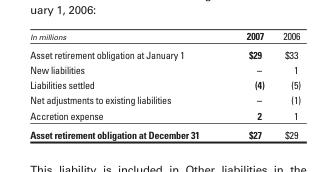table: (29, 28, 299, 140)
table column: (29, 28, 222, 140), (222, 28, 272, 140), (272, 28, 299, 140)
table column header: (29, 28, 299, 44)
table row: (29, 44, 299, 61), (29, 107, 299, 124), (29, 28, 299, 44), (29, 76, 299, 92), (29, 124, 299, 140), (29, 61, 299, 76), (29, 92, 299, 107)
